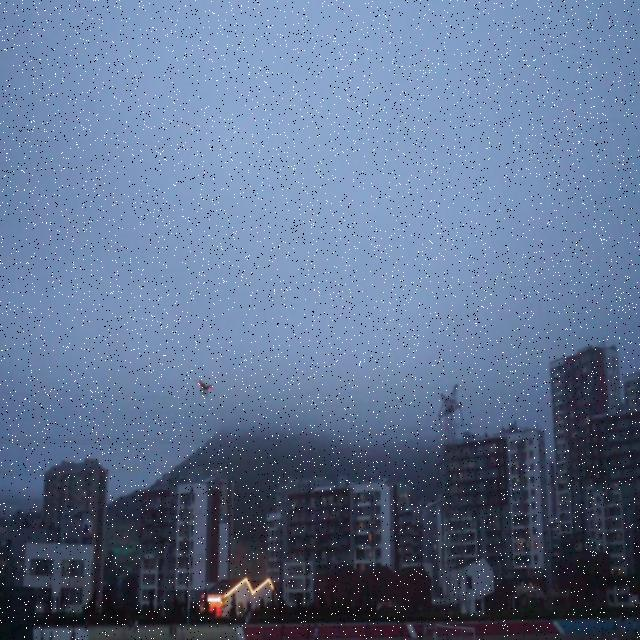UAV: (198, 379, 214, 398)
